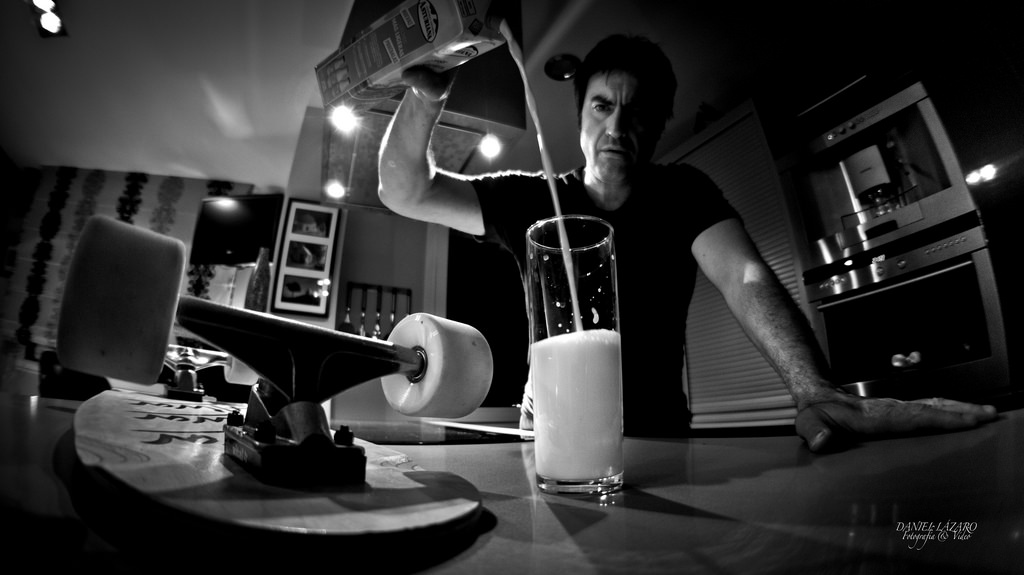glass of milk: (514, 213, 635, 498)
